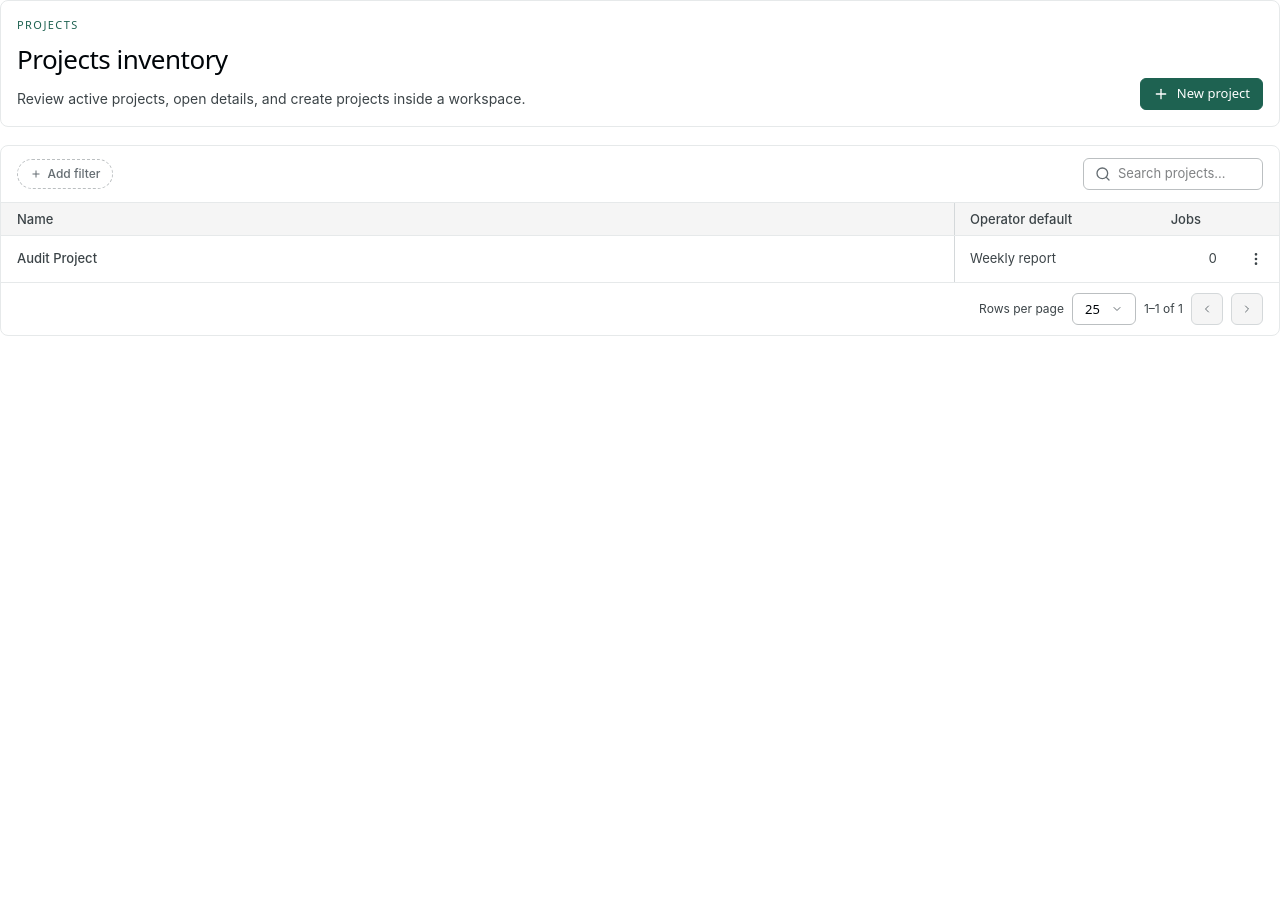
Test: ProjectsListPage › confirms project deletion in a dialog instead of a native confirm
The image size is (1280, 900).
Click the button named "Actions for " at (1256, 259), box 1240,243 -> 1272,275
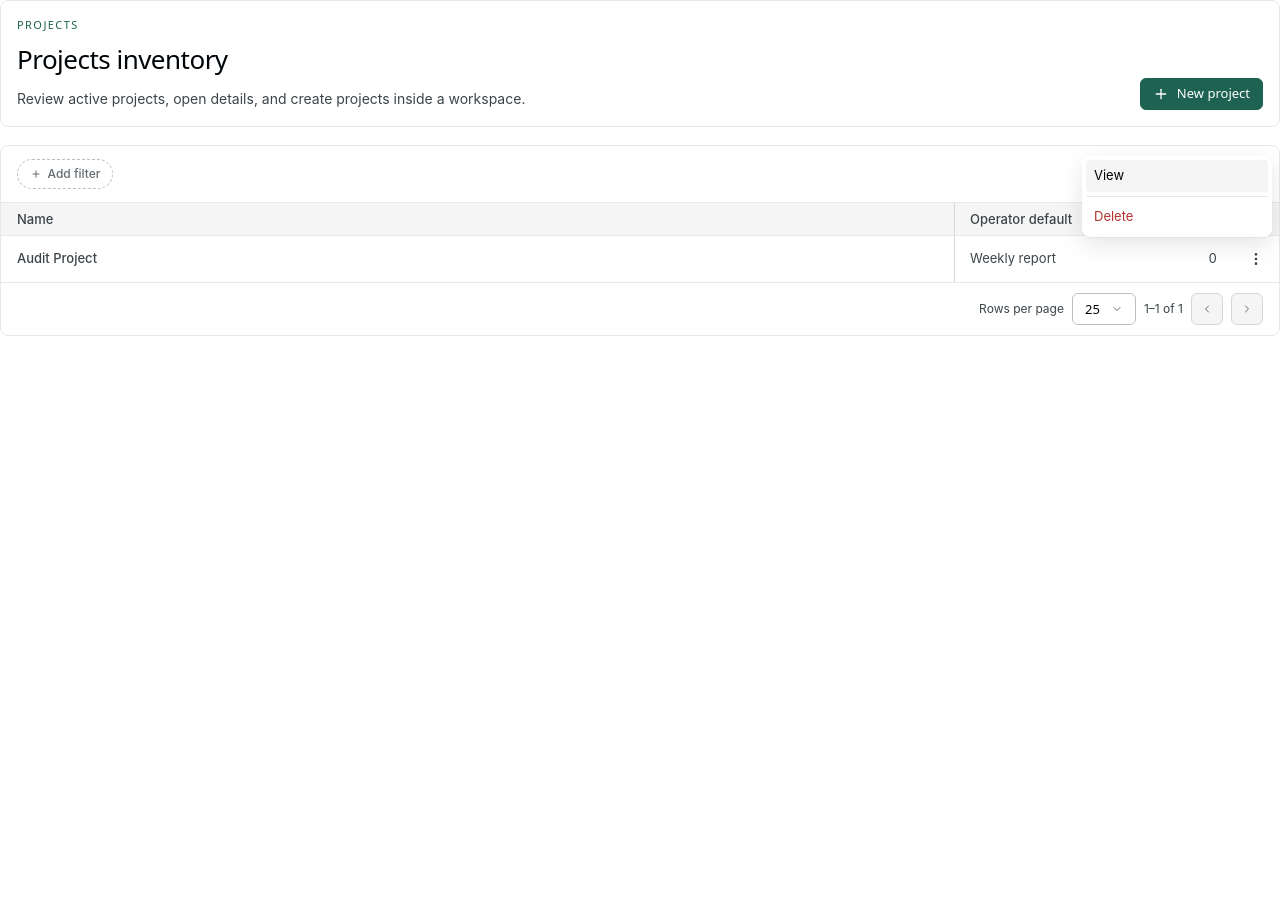
Click the menu item "Delete" at (1177, 217), box 1086,201 -> 1268,233
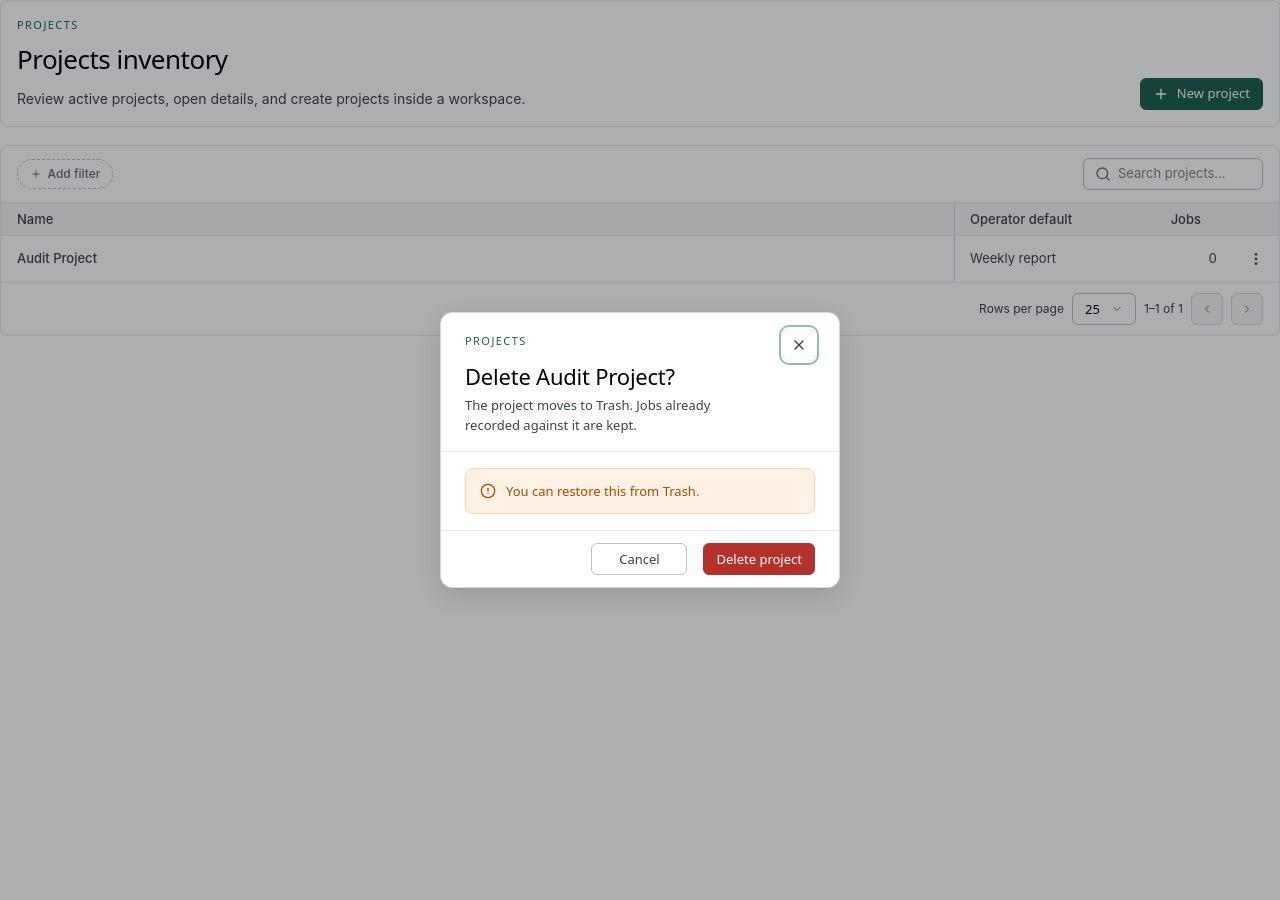
Expected: the dialog "Delete Audit Project?" is shown, 440,312 -> 840,588
Expected: the button "Delete project" is shown, 704,543 -> 815,575
Expected: the text "You can restore this from Trash." is shown, 506,482 -> 699,500
